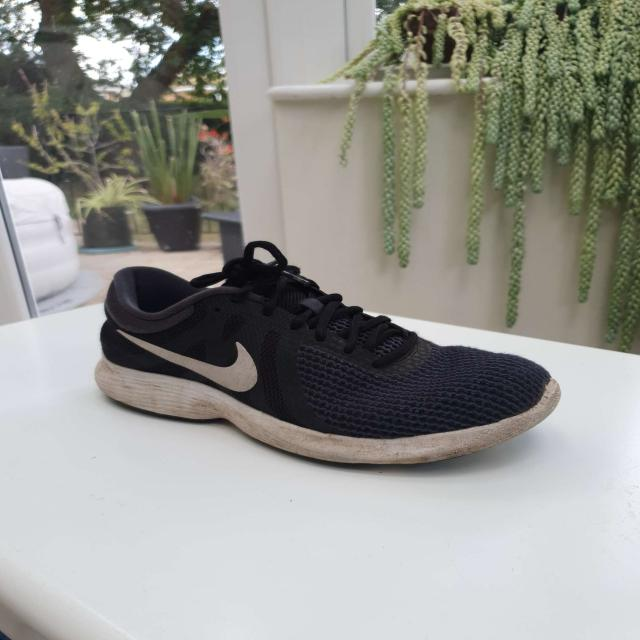shoes: (91, 238, 564, 471)
